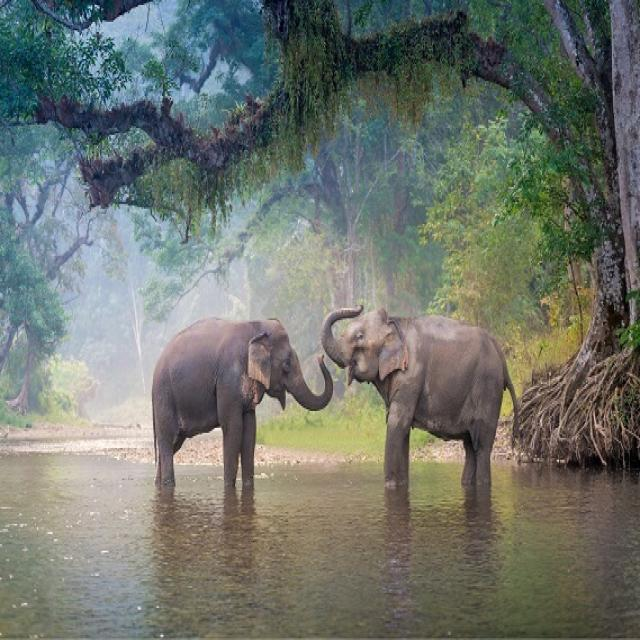Elephant: (325, 280, 525, 508), (150, 298, 324, 513)
